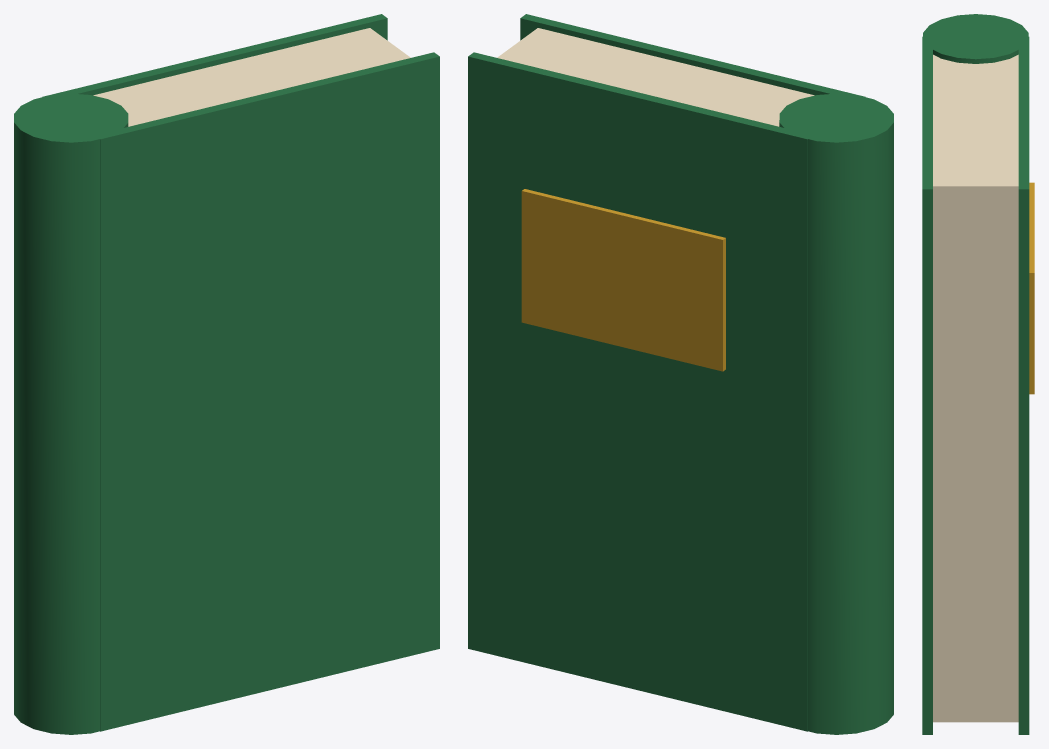
The model's file is book.glb.
3 renders of one model, left to right at view 1: azimuth 30°, elevation 25°; view 2: azimuth 150°, elevation 25°; view 3: azimuth 270°, elevation 25°, orthographic. The views are drawn at different scales.
Visible parts, largest first — view 1: book; view 2: book; view 3: book.
Part boxes in pixels (<box>): book: <box>14,14,439,734</box>; book: <box>468,14,893,734</box>; book: <box>922,14,1034,734</box>.
Bounding box in the file's own units: 0.062 × 0.09 × 0.0168.
